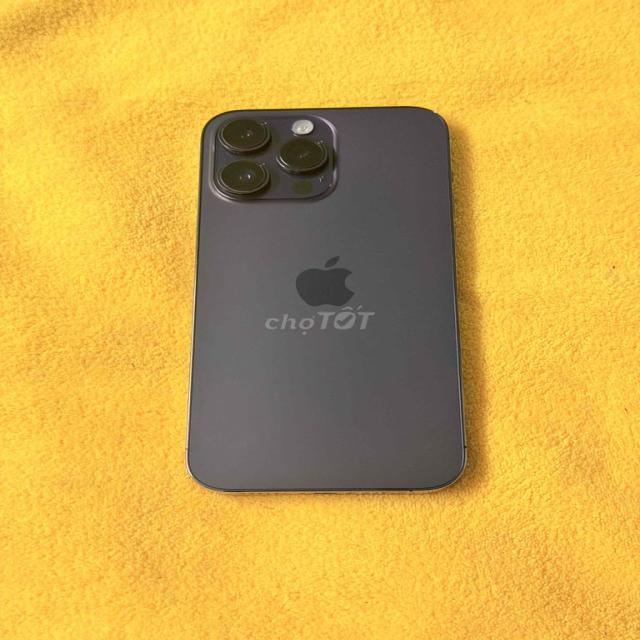gen_14: (180, 99, 472, 505)
